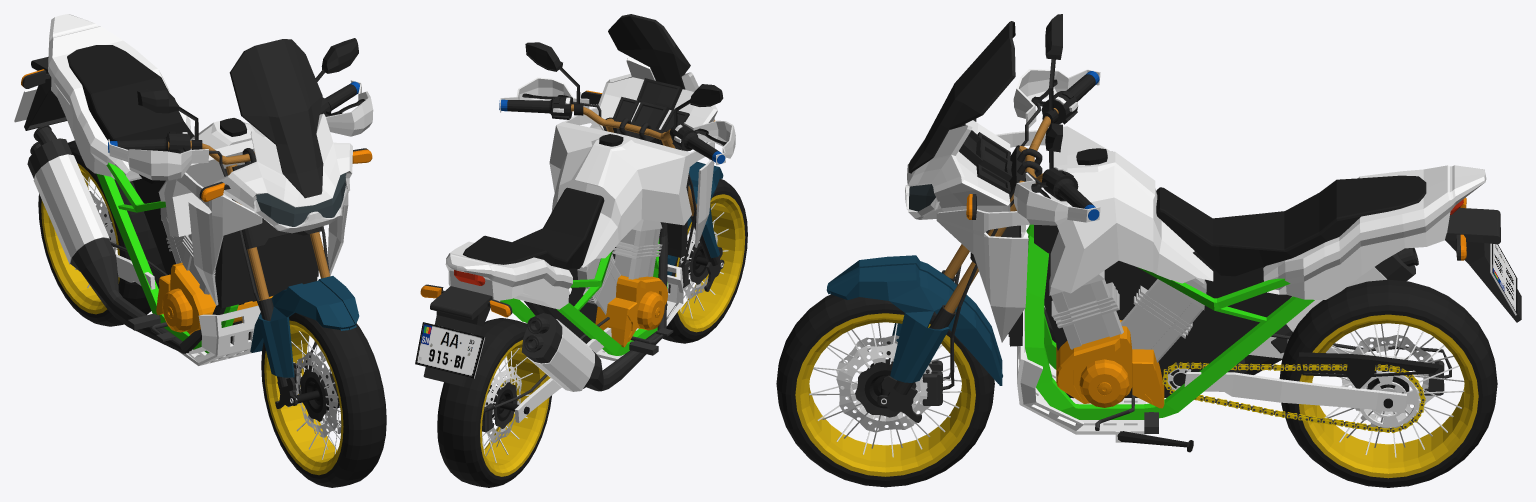
File: honda_africa_twin_low_poly__game_ready_3d_model.glb
3 views of the same model, side by side, from view 1: azimuth 30°, elevation 25°; view 2: azimuth 150°, elevation 25°; view 3: azimuth 270°, elevation 25° (orthographic). The views are drawn at different scales.
Visible parts, largest first — view 1: Cadre, Guidon, Pneu avant, object 4, Cadre.001; view 2: Cadre, object 4, Guidon, Pneu avant, Cadre.001; view 3: Cadre, object 4, Guidon, Pneu avant, Cadre.001.
Boxes of the visible parts, bbox=[...] form: Cadre: bbox=[21, 14, 372, 365]; Guidon: bbox=[108, 38, 373, 408]; Pneu avant: bbox=[261, 312, 386, 487]; object 4: bbox=[38, 140, 165, 326]; Cadre.001: bbox=[14, 88, 37, 122]; Cadre: bbox=[420, 14, 717, 432]; object 4: bbox=[437, 318, 551, 487]; Guidon: bbox=[499, 42, 735, 291]; Pneu avant: bbox=[662, 179, 747, 343]; Cadre.001: bbox=[415, 322, 484, 378]; Cadre: bbox=[905, 21, 1521, 452]; object 4: bbox=[1279, 279, 1497, 487]; Guidon: bbox=[826, 14, 1100, 422]; Pneu avant: bbox=[776, 294, 994, 487]; Cadre.001: bbox=[1490, 243, 1517, 315].
Size of the model in its own units: 1.1 by 1.65 by 2.46.
2 materials, 2 textured.
